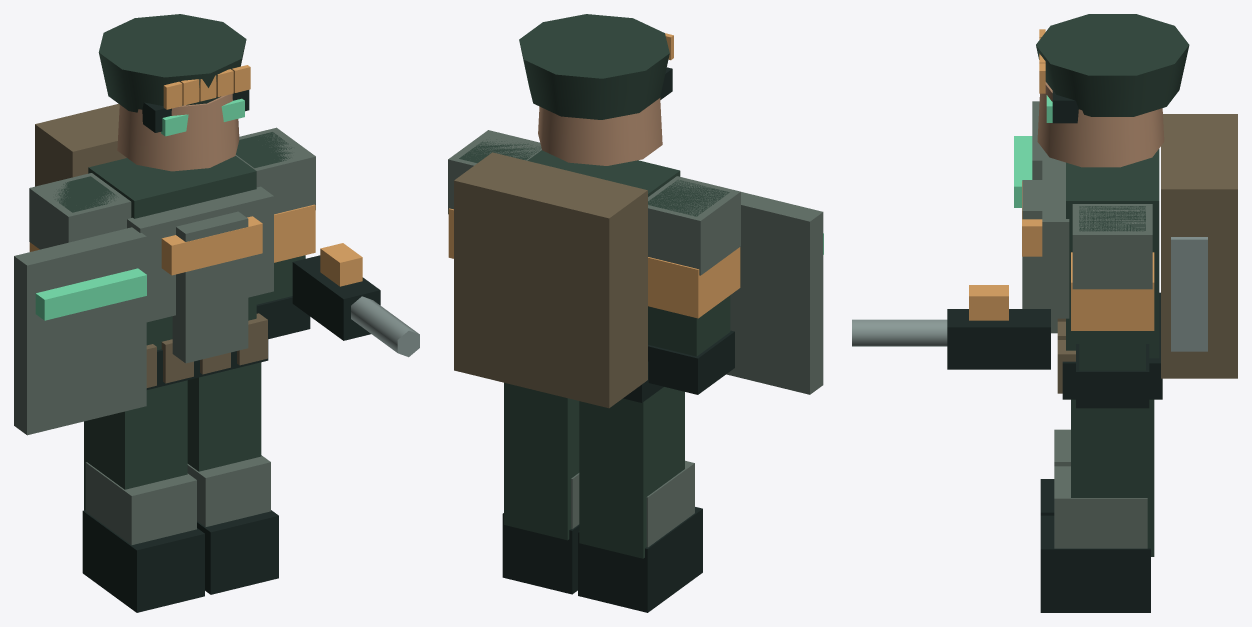
File: assault_l05.glb
The picture shows the model from 3 angles, left to right: view 1: azimuth 30°, elevation 25°; view 2: azimuth 150°, elevation 25°; view 3: azimuth 270°, elevation 25°; orthographic projection. The views are drawn at different scales.
Parts seen in each view (by area): view 1: forearm_shield, trouser (×2), boot (×2), knee_plate (×2), helmet, shoulder_plate (×2), front_plate, body, vest, face, field_pack, carbine_body (+12 smaller); view 2: field_pack, trouser (×2), forearm_shield, helmet, boot (×2), shoulder_plate (×2), sleeve (×2), face, rank_stripe, glove, knee_plate, body; view 3: field_pack, helmet, boot (×2), trouser, shoulder_plate, face, knee_plate (×2), carbine_body, body, sleeve, spare_magazine, vest (+10 smaller).
Boxes of the visible parts, x1,y1,x2,y2 form: forearm_shield: [14, 227, 146, 435]; trouser (×2): [84, 362, 261, 510]; boot (×2): [82, 510, 278, 612]; knee_plate (×2): [85, 455, 270, 545]; helmet: [98, 14, 246, 112]; shoulder_plate (×2): [29, 127, 315, 249]; front_plate: [172, 211, 248, 363]; body: [88, 156, 256, 350]; vest: [127, 186, 273, 322]; face: [117, 94, 239, 171]; field_pack: [35, 104, 126, 186]; carbine_body: [292, 255, 380, 340]; field_pack: [454, 152, 647, 408]; trouser (×2): [504, 382, 684, 558]; forearm_shield: [726, 192, 823, 394]; helmet: [519, 14, 669, 119]; boot (×2): [502, 507, 702, 612]; shoulder_plate (×2): [448, 130, 740, 275]; sleeve (×2): [459, 139, 730, 356]; face: [538, 97, 662, 165]; rank_stripe: [648, 247, 740, 318]; glove: [648, 330, 734, 394]; knee_plate: [646, 460, 694, 547]; body: [527, 150, 680, 196]; field_pack: [1161, 114, 1237, 378]; helmet: [1036, 14, 1189, 116]; boot (×2): [1040, 479, 1150, 612]; trouser: [1071, 399, 1154, 556]; shoulder_plate: [1072, 204, 1152, 289]; face: [1037, 82, 1164, 167]; knee_plate (×2): [1054, 429, 1147, 548]; carbine_body: [947, 309, 1050, 369]; body: [1066, 149, 1159, 358]; sleeve: [1079, 206, 1145, 370]; spare_magazine: [1171, 237, 1207, 351]; vest: [1042, 155, 1069, 318].
Bounding box in the file's own units: 1.09 × 1.76 × 1.16.
